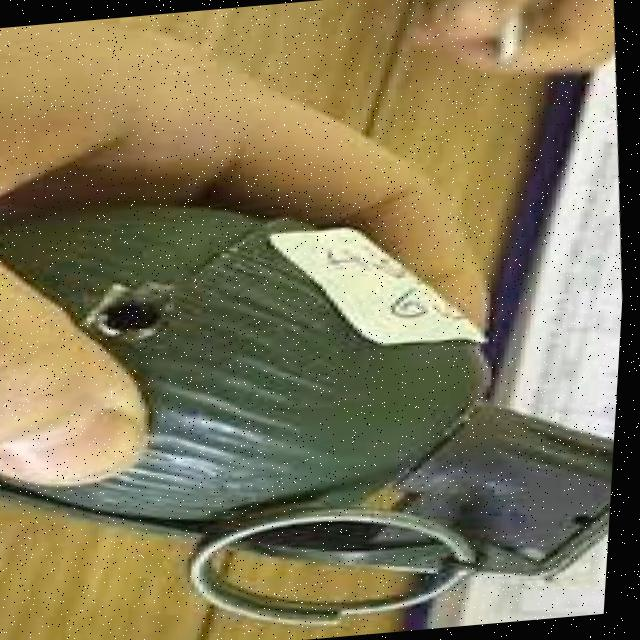grenade: (0, 141, 633, 640)
